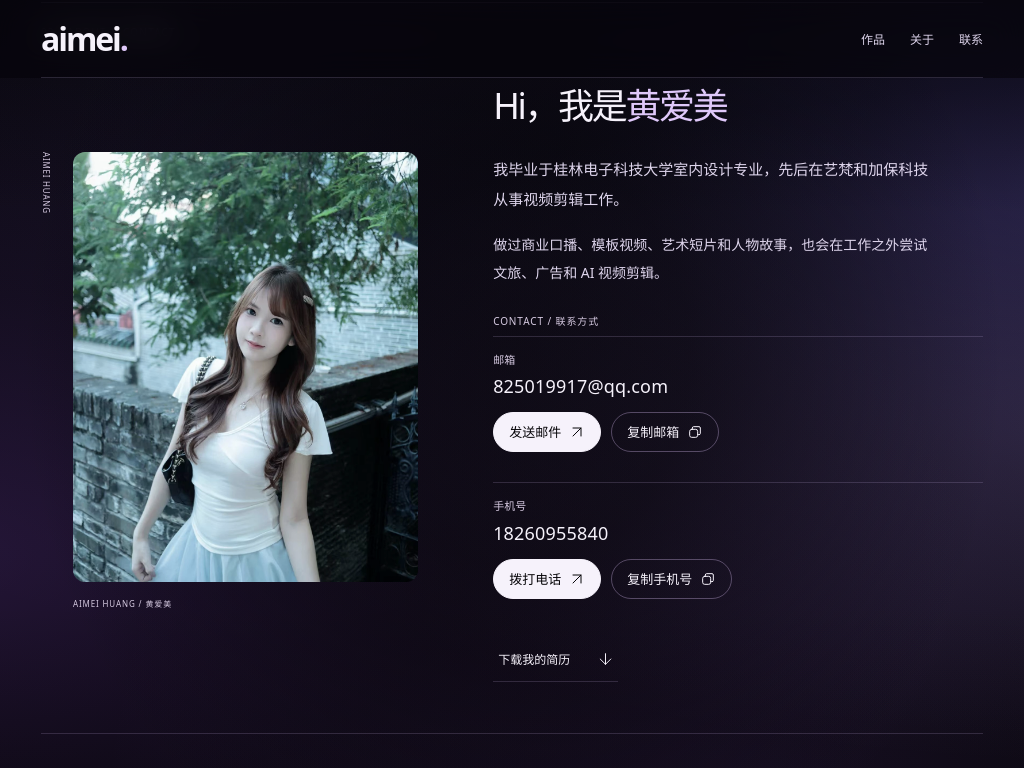
it: 求职联系 › 复制受阻时支持手动选择，简历有唯一下载入口
(page scrolled)
Click the button "复制邮箱" at (665, 432), box [611, 412, 719, 452]
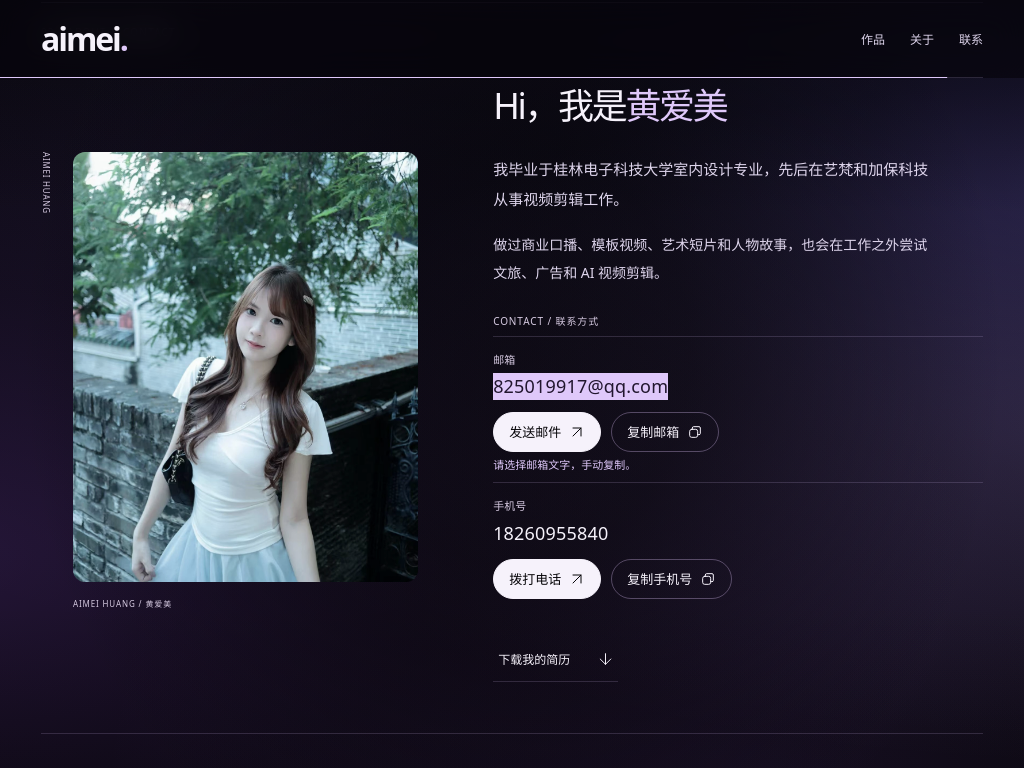
Result: the text "请选择邮箱文字，手动复制。" is shown at [493, 457, 636, 472]
